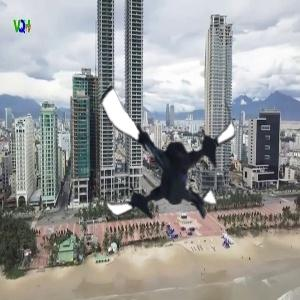drone: (79, 68, 247, 236)
